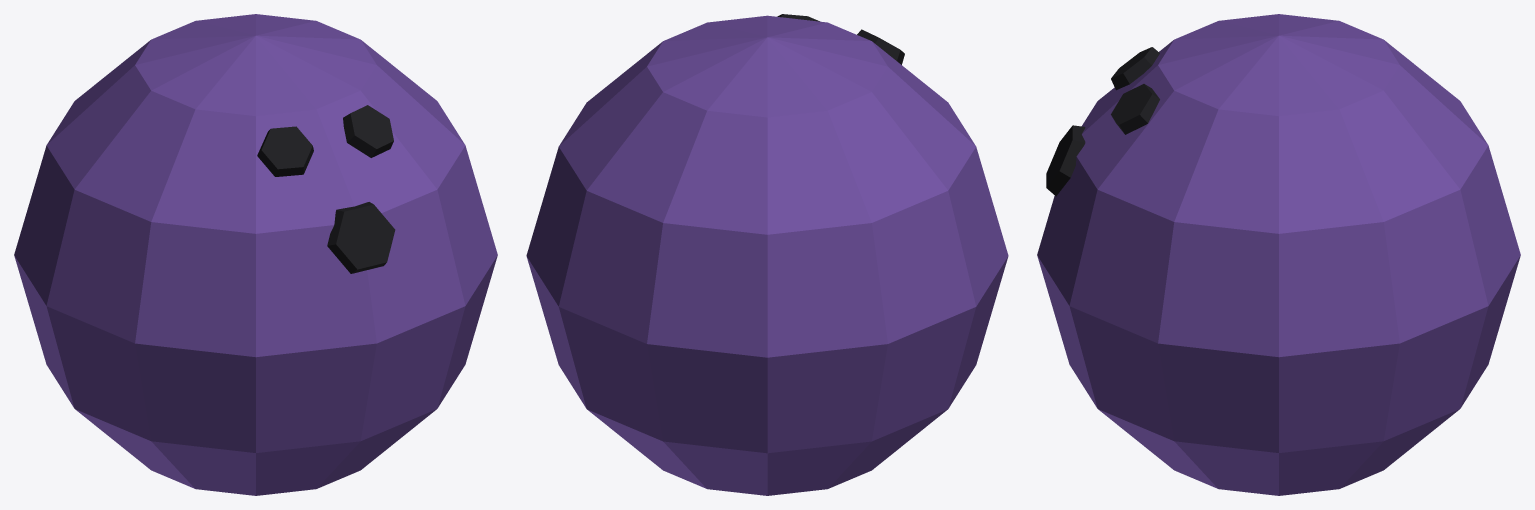
The model's file is GS_BowlingBall_01.glb.
3 views of the same model, side by side, from view 1: azimuth 30°, elevation 25°; view 2: azimuth 150°, elevation 25°; view 3: azimuth 270°, elevation 25° (orthographic).
Visible parts, largest first — view 1: GS_BowlingBall_01; view 2: GS_BowlingBall_01; view 3: GS_BowlingBall_01.
Part boxes in pixels (x1,y1,x2,y2): GS_BowlingBall_01: (14, 14, 497, 495); GS_BowlingBall_01: (526, 14, 1008, 495); GS_BowlingBall_01: (1037, 14, 1520, 495).
Bounding box in the file's own units: 0.216 × 0.216 × 0.216.
1 material, 1 textured.
